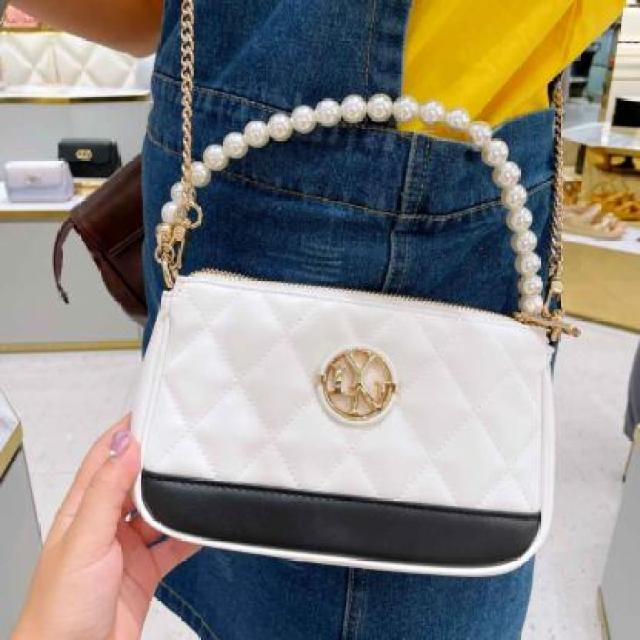Bag: (125, 77, 564, 588)
